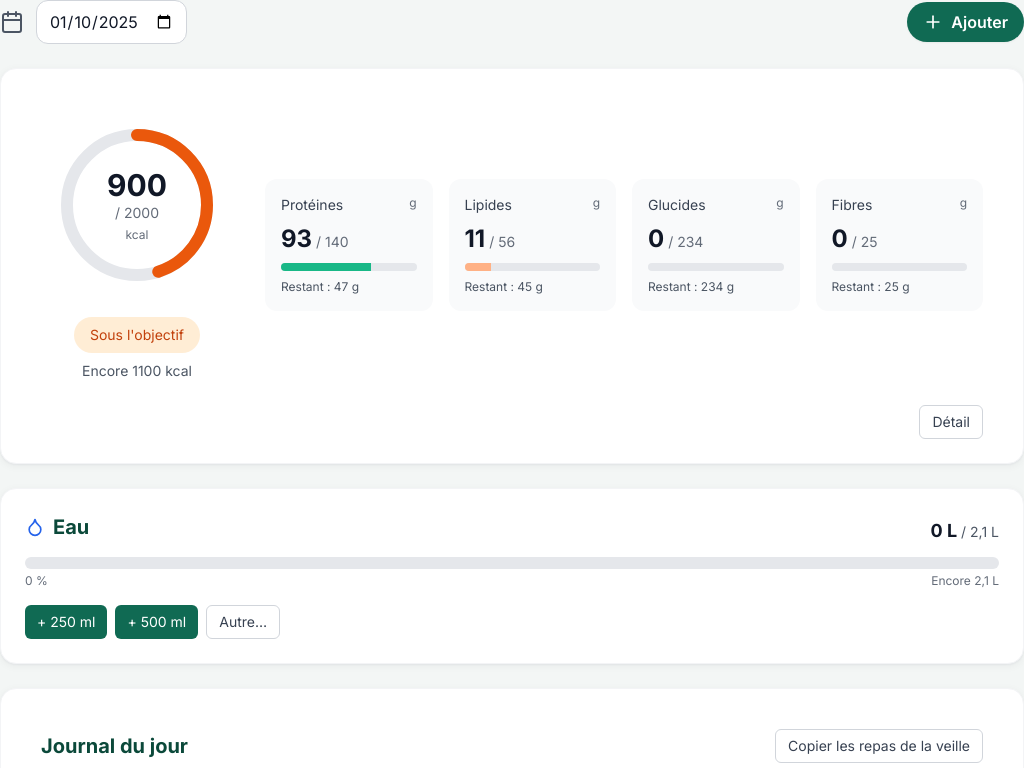
it: Dashboard : détail par repas et journal défilant › affiche « Détail » quand la journée a des aliments, et ouvre la fenêtre
The image size is (1024, 768).
Click the button "Détail" at x=951, y=422, box [919,405,983,439]
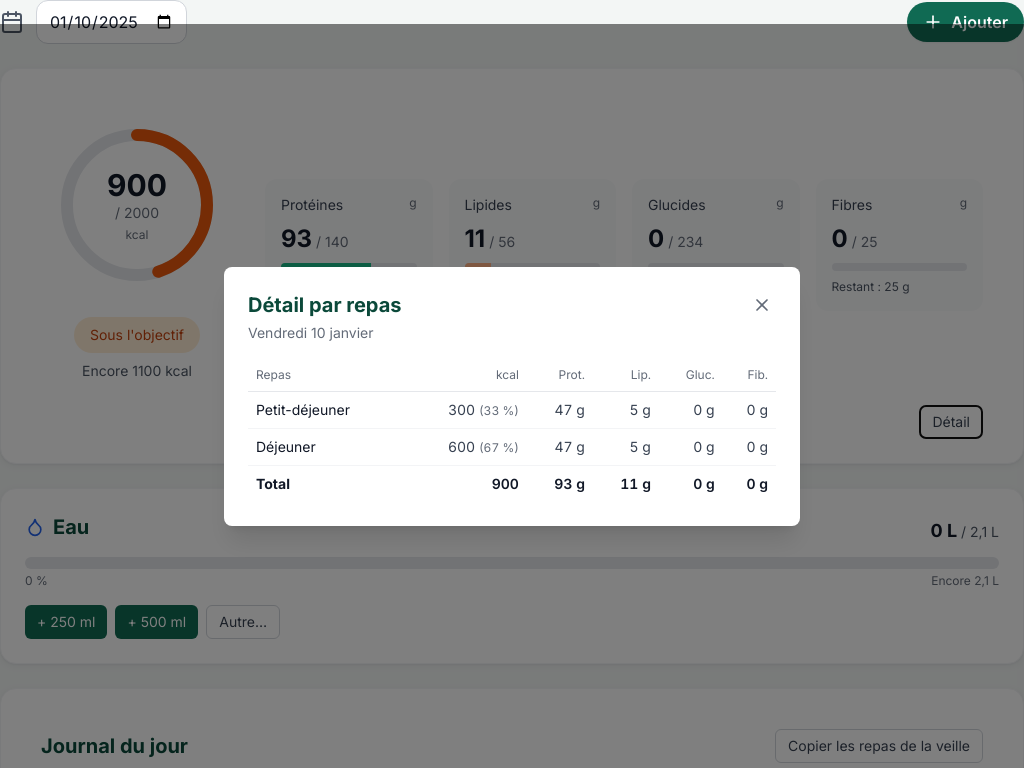
Expected: the row "Petit-déjeuner 300 (33 %) 47 g 5 g 0 g 0 g" is shown, [248,392,776,428]
Expected: the row "Déjeuner 600 (67 %) 47 g 5 g 0 g 0 g" is shown, [248,428,776,465]
